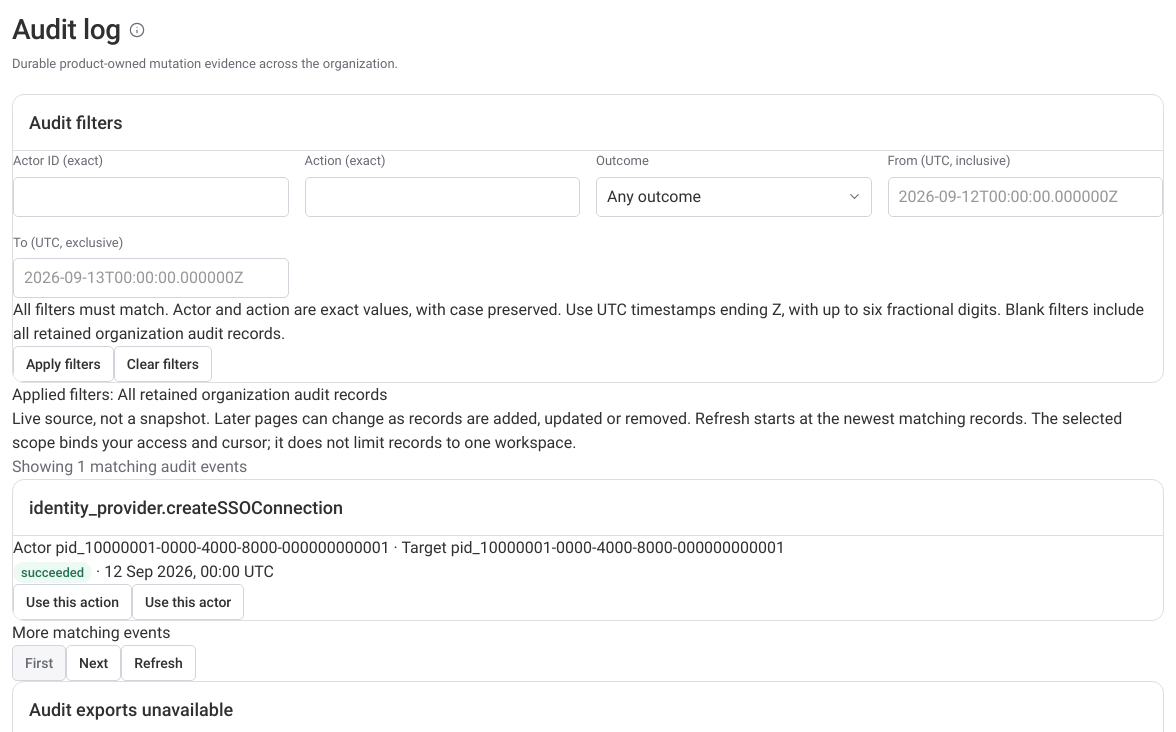
Test case: bounded audit browsing › binds rendered rows to exact public IDs and drops old IDs on replacement and invalidation
Expected: the heading "identity_provider.createSSOConnection" is shown, [29,496,343,520]
Click the button "Next": [94, 663] box [66,645,121,681]
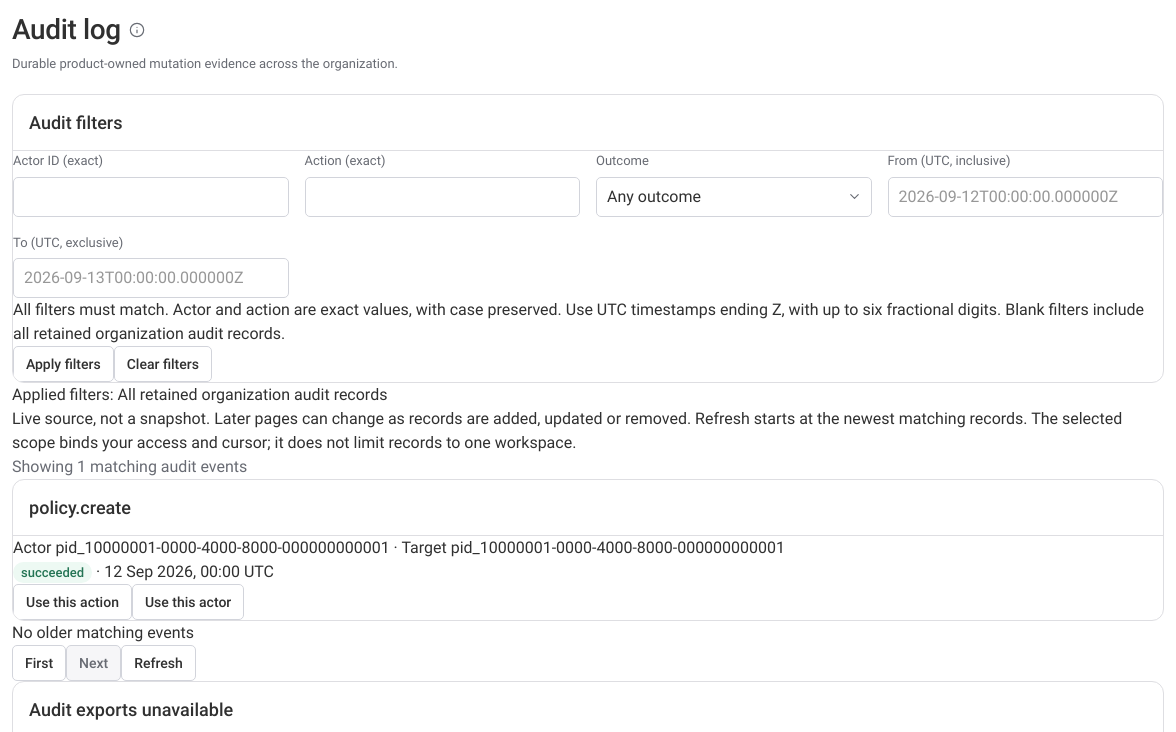
Result: the text "policy.create" is shown at [29,496,131,520]
